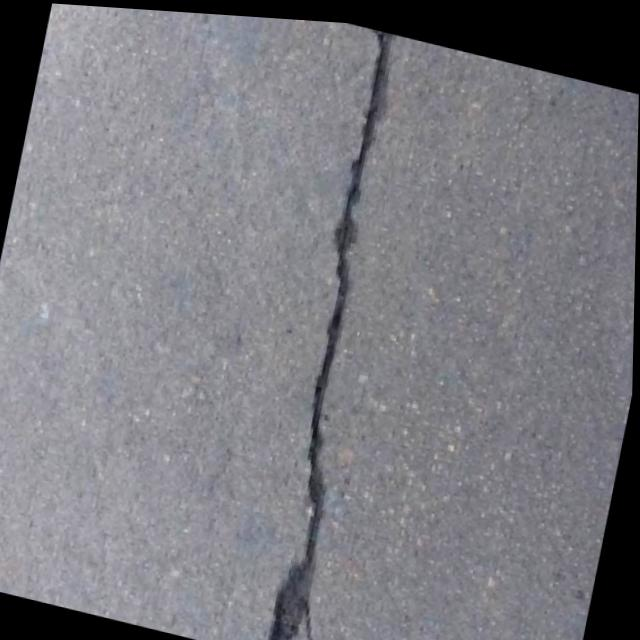Crack: (218, 12, 458, 640)
